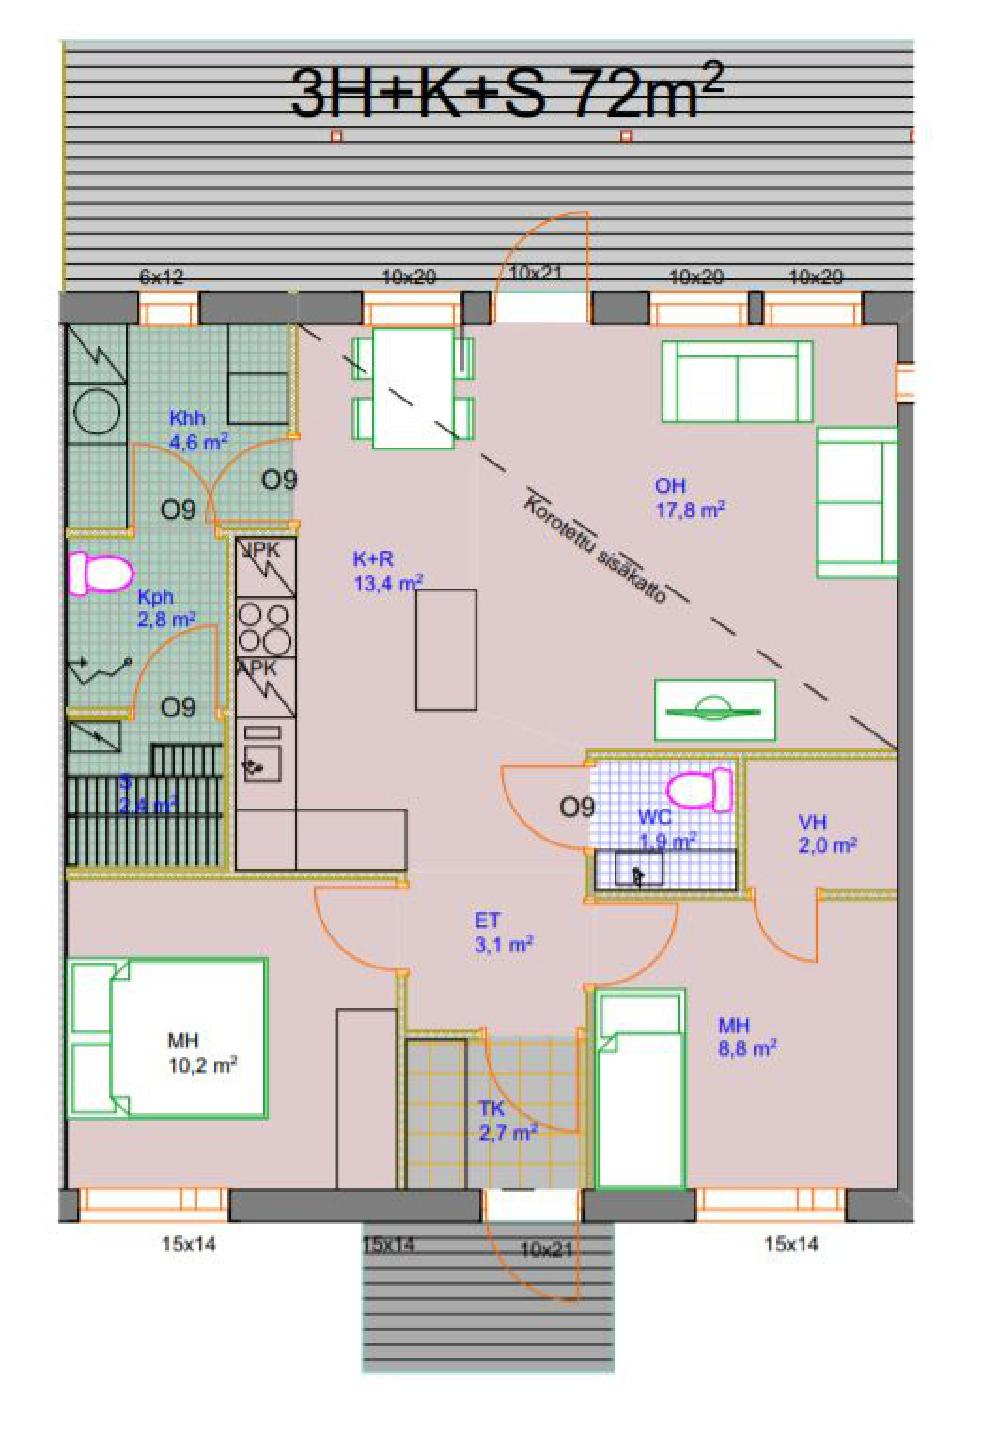door: (483, 202, 599, 329), (481, 1026, 583, 1131), (484, 1192, 581, 1301), (127, 612, 230, 712), (305, 875, 411, 971), (490, 756, 592, 850), (576, 887, 678, 980), (205, 446, 308, 527), (743, 889, 833, 974), (126, 440, 219, 523)
window: (84, 1187, 227, 1217), (693, 1190, 846, 1214), (762, 289, 858, 327), (648, 290, 752, 323), (362, 293, 462, 320), (144, 287, 205, 328)
zone: (251, 324, 906, 1196), (61, 36, 915, 295), (67, 318, 302, 870), (83, 878, 402, 1193), (367, 1227, 612, 1376)
